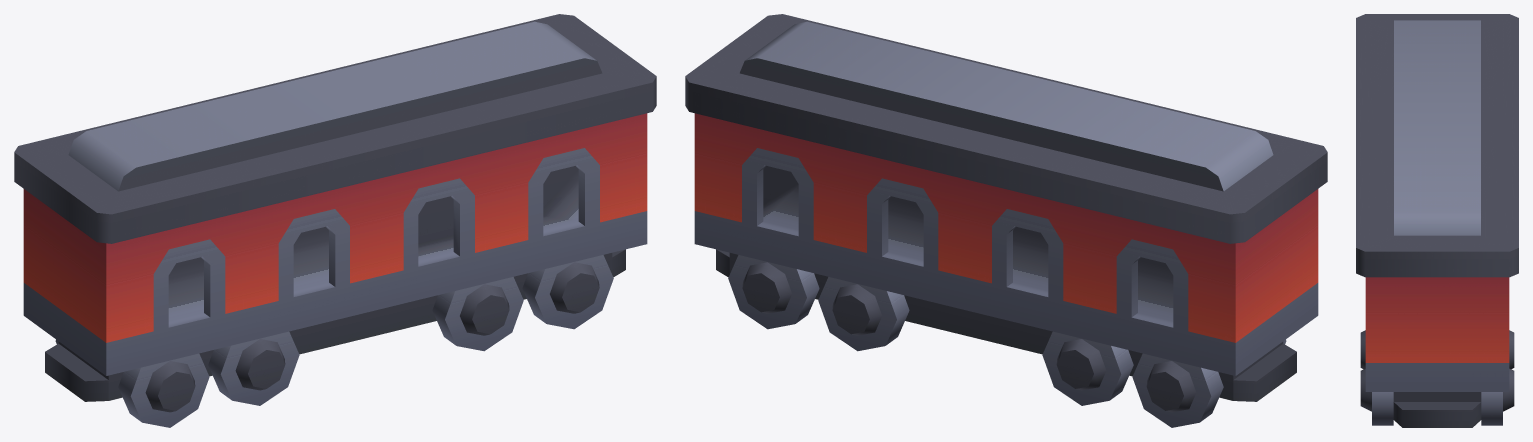
Rendered from train-wagon.glb.
3 renders of one model, left to right at view 1: azimuth 30°, elevation 25°; view 2: azimuth 150°, elevation 25°; view 3: azimuth 270°, elevation 25°, orthographic. The views are drawn at different scales.
Visible parts, largest first — view 1: train-wagon; view 2: train-wagon; view 3: train-wagon.
Boxes of the visible parts, bbox=[...] form: train-wagon: bbox=[14, 14, 656, 427]; train-wagon: bbox=[685, 14, 1327, 427]; train-wagon: bbox=[1356, 14, 1518, 427].
Bounding box in the file's own units: 0.7154 × 0.313 × 0.207.
1 material, 1 textured.
